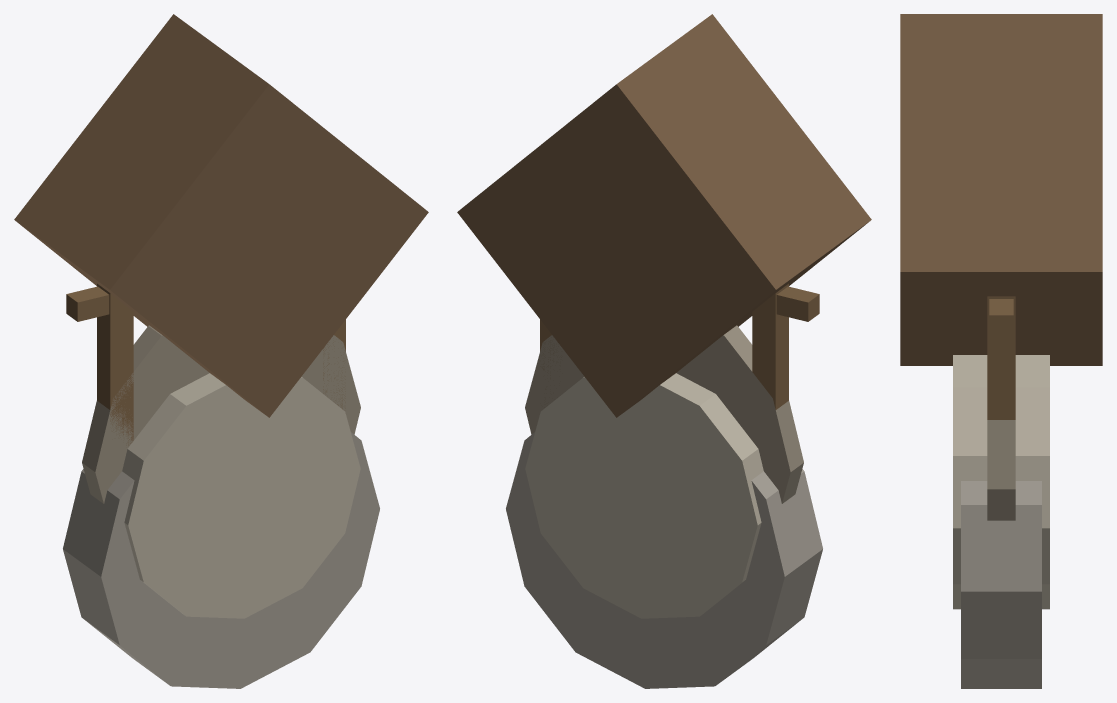
Rendered from well.glb.
The picture shows the model from 3 angles, left to right: view 1: azimuth 30°, elevation 25°; view 2: azimuth 150°, elevation 25°; view 3: azimuth 270°, elevation 25°; orthographic projection. The views are drawn at different scales.
Parts seen in each view (by area): view 1: world; view 2: world; view 3: world.
Boxes of the visible parts, box(x1,y1,x2,y2) form: world: box(14, 14, 428, 688); world: box(457, 14, 871, 688); world: box(900, 14, 1102, 688).
Bounding box in the file's own units: 4.8 × 9 × 2.5.
